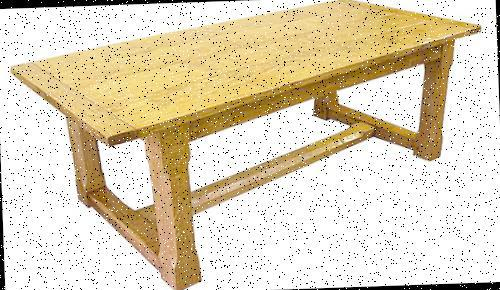Mesa: (6, 0, 491, 289)
